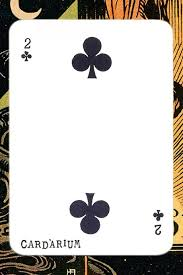two of clubs: (8, 20, 172, 254)
